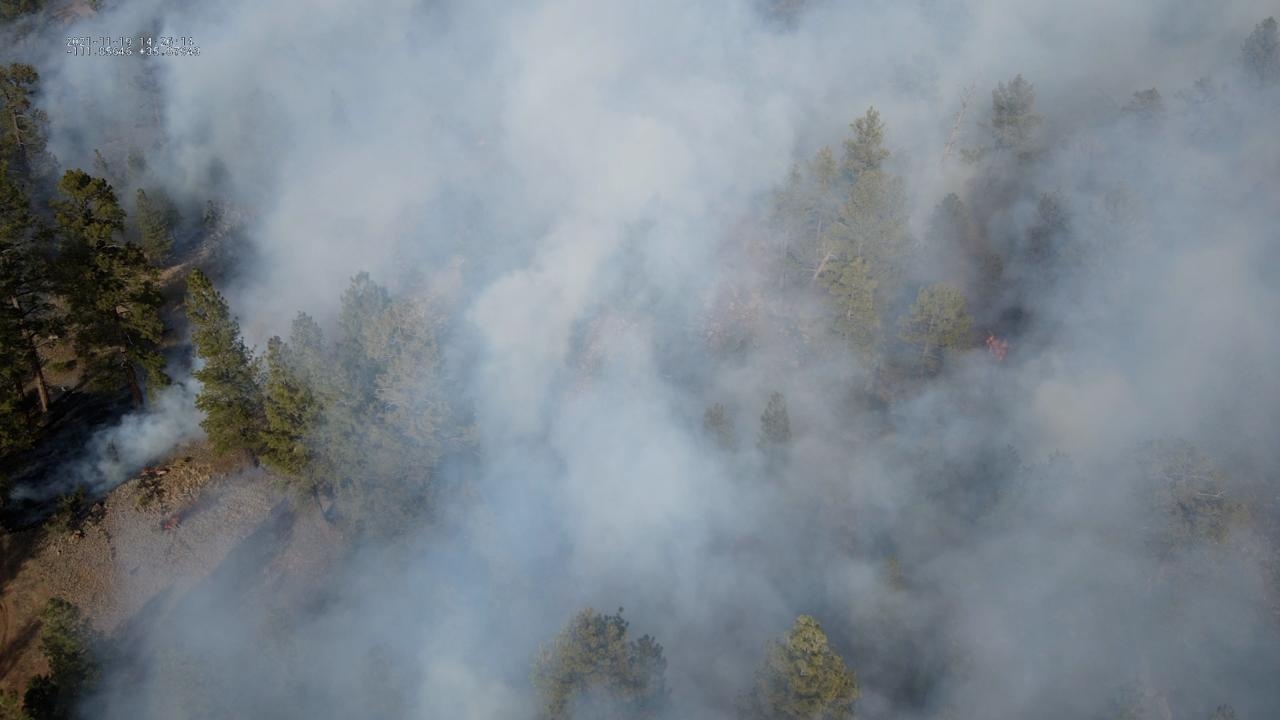fire: (982, 332, 1009, 362), (163, 517, 177, 530), (141, 466, 158, 473)
smoke: (0, 0, 1280, 720)
